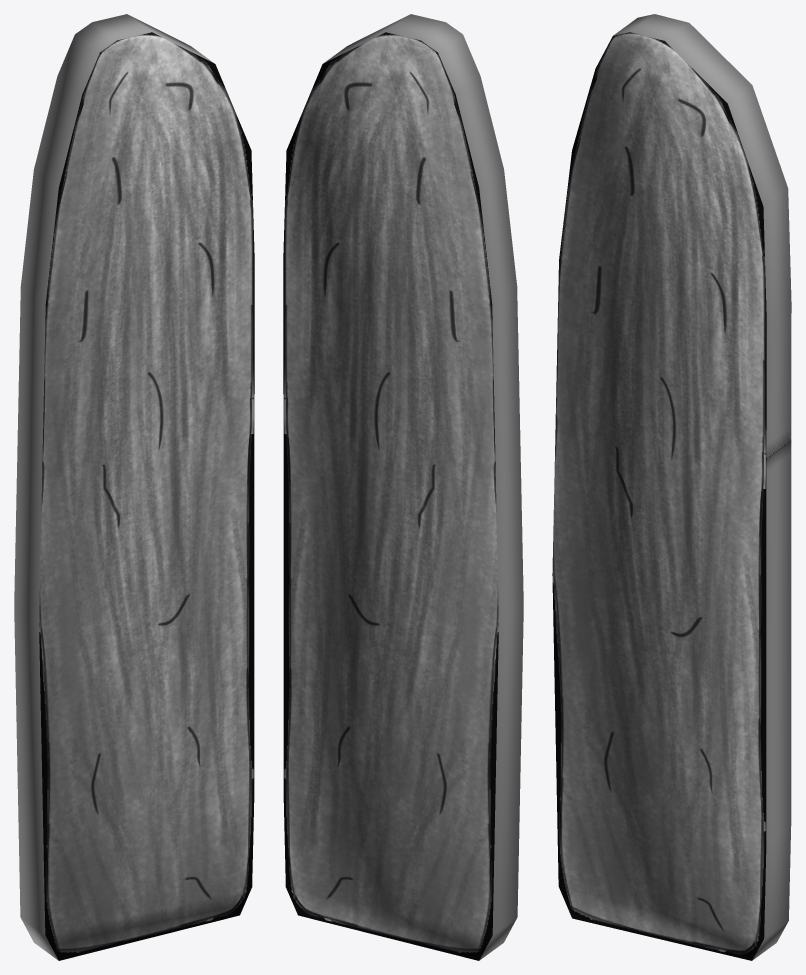
Rendered from StoneWall_01.FBX.
3 renders of one model, left to right at view 1: azimuth 30°, elevation 25°; view 2: azimuth 150°, elevation 25°; view 3: azimuth 330°, elevation 25°, orthographic.
Visible parts, largest first — view 1: Line001; view 2: Line001; view 3: Line001.
Boxes of the visible parts, <box> form: Line001: <box>14,14,254,960</box>; Line001: <box>283,14,523,960</box>; Line001: <box>552,14,791,960</box>.
Size of the model in its own units: 39.34 by 158 by 7.87.
1 material, 1 textured.
